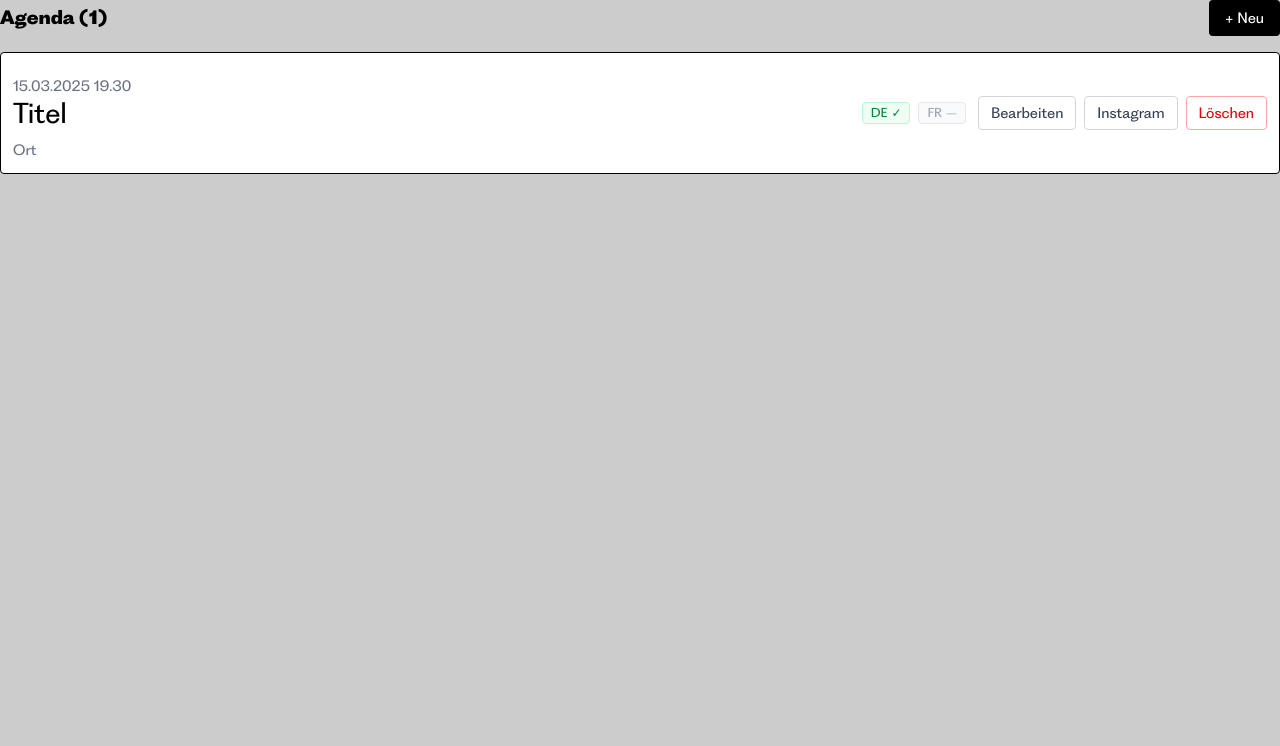
Test case: AgendaSection — native date/time picker (DK-5, DK-6) › off-spec row opens with empty picker + aria-describedby hint (Codex-R1 [Correctness] 2)
Click the button "Bearbeiten".
click(1027, 113)  # box [978, 96, 1076, 130]
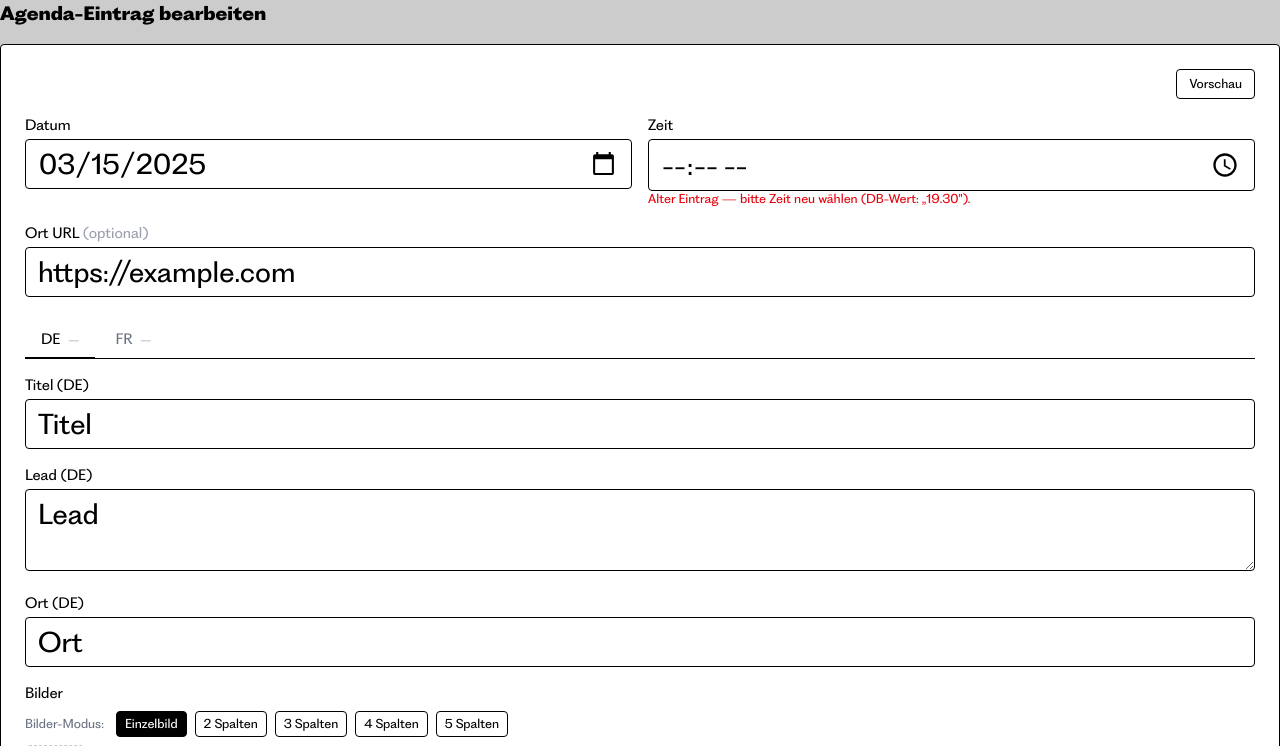
expect the time field labelled "Zeit" is empty: met, box [648, 139, 1255, 191]
expect the text "Alter Eintrag — bitte Zeit neu wählen (DB-Wert: „19.30\")." is shown: met, box [648, 191, 970, 206]
expect the text with id "agenda-zeit-hint" shows "19.30": met, box [926, 191, 958, 206]
